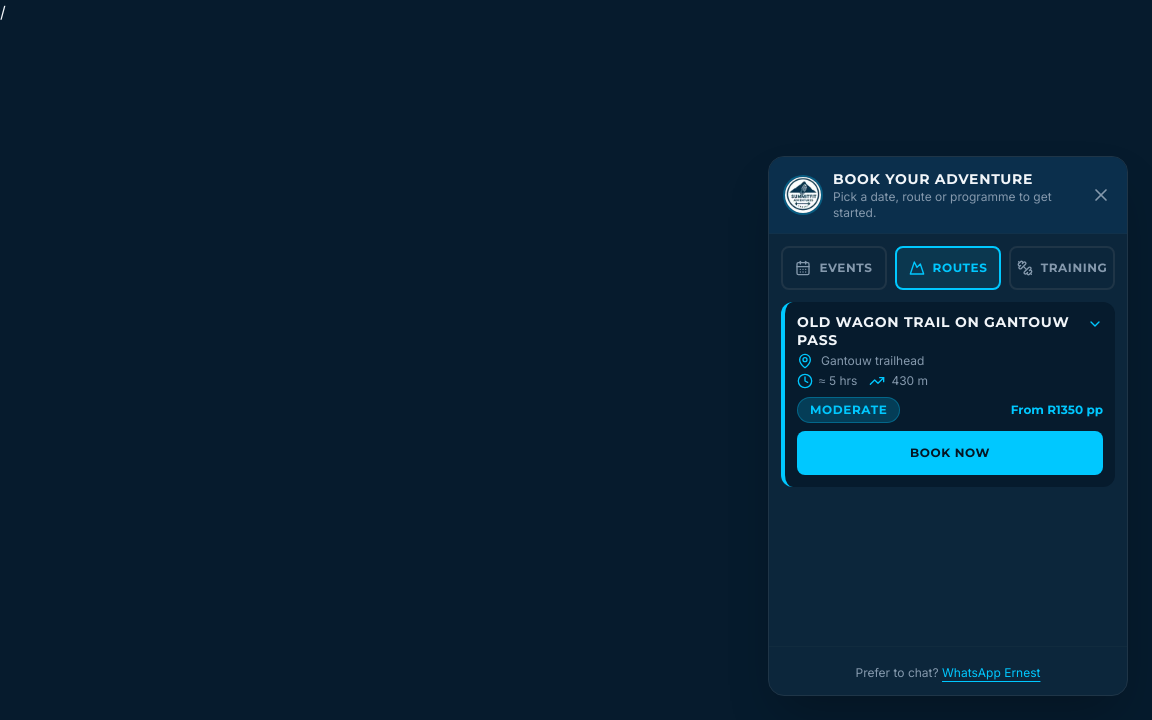
quick booking managed routes › discovers a newly published route with managed facts and expandable description
Step 1. Click the button "Old Wagon Trail" → (933, 322), box [797, 314, 1103, 423]
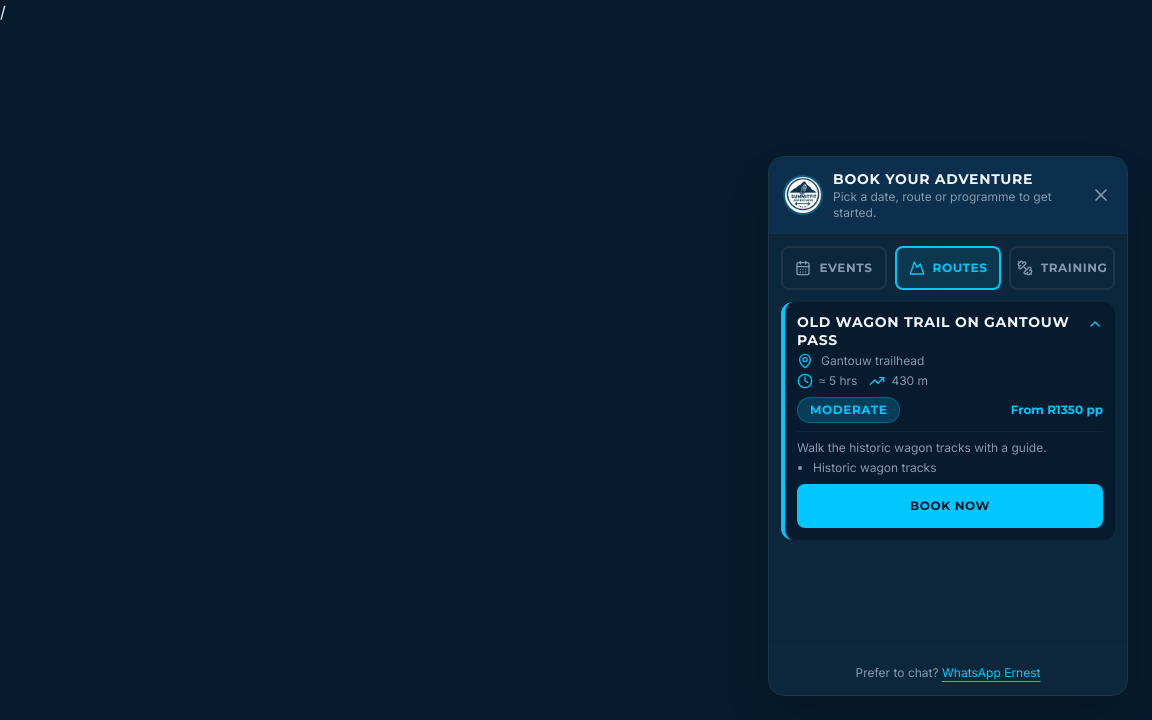
Check: the text "≈ 5 hrs" is shown, box [797, 373, 857, 389]
Check: the text "Walk the historic wagon tracks with a guide." is shown, box [797, 440, 1047, 455]
